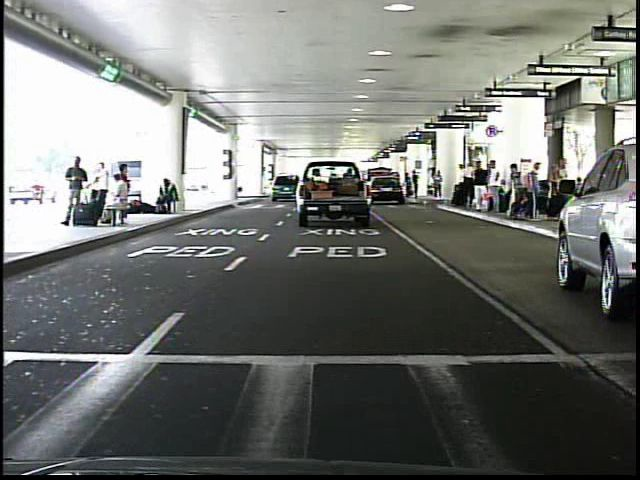person: (67, 155, 92, 229), (468, 158, 491, 219), (487, 159, 505, 218), (453, 159, 473, 211), (433, 166, 449, 206), (411, 170, 422, 203), (403, 170, 414, 202)
